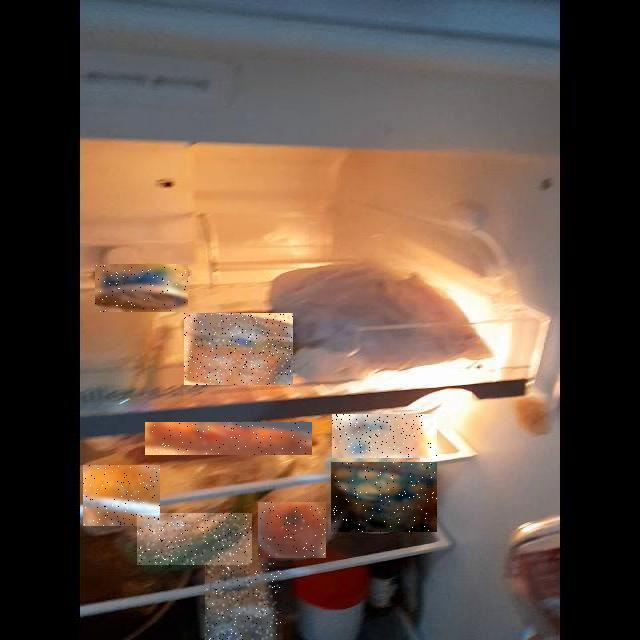Butter: (184, 313, 293, 385)
Carrot: (145, 422, 312, 455)
Chillies: (137, 513, 252, 565)
Lemon: (83, 465, 160, 526)
Milk: (206, 563, 282, 640)
Tomato Paste: (259, 502, 327, 558)
Yoghurt: (331, 462, 437, 532), (332, 414, 437, 458), (95, 264, 188, 312)
